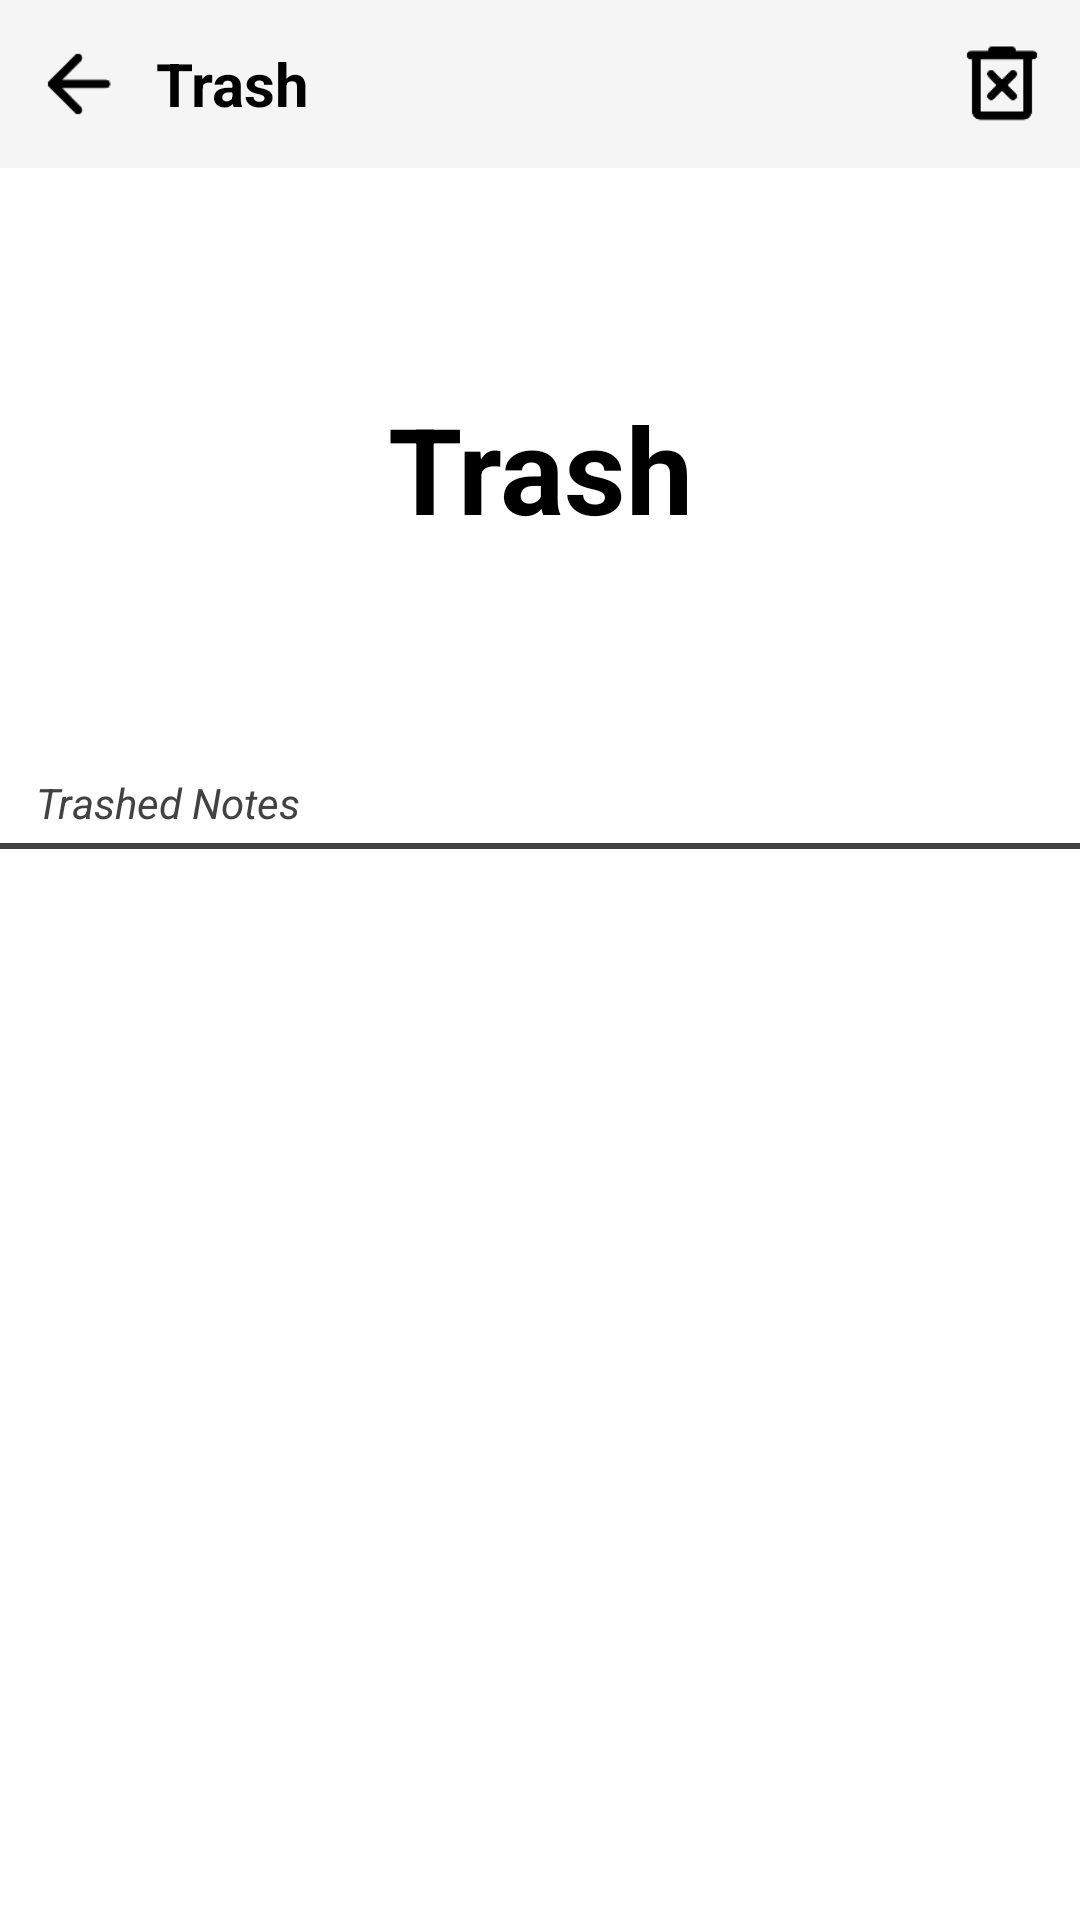

Named icons in this screenshot (1080×1920) and their centers, [x,y]:
arrow back: [79,84]
delete forever: [1002,83]
